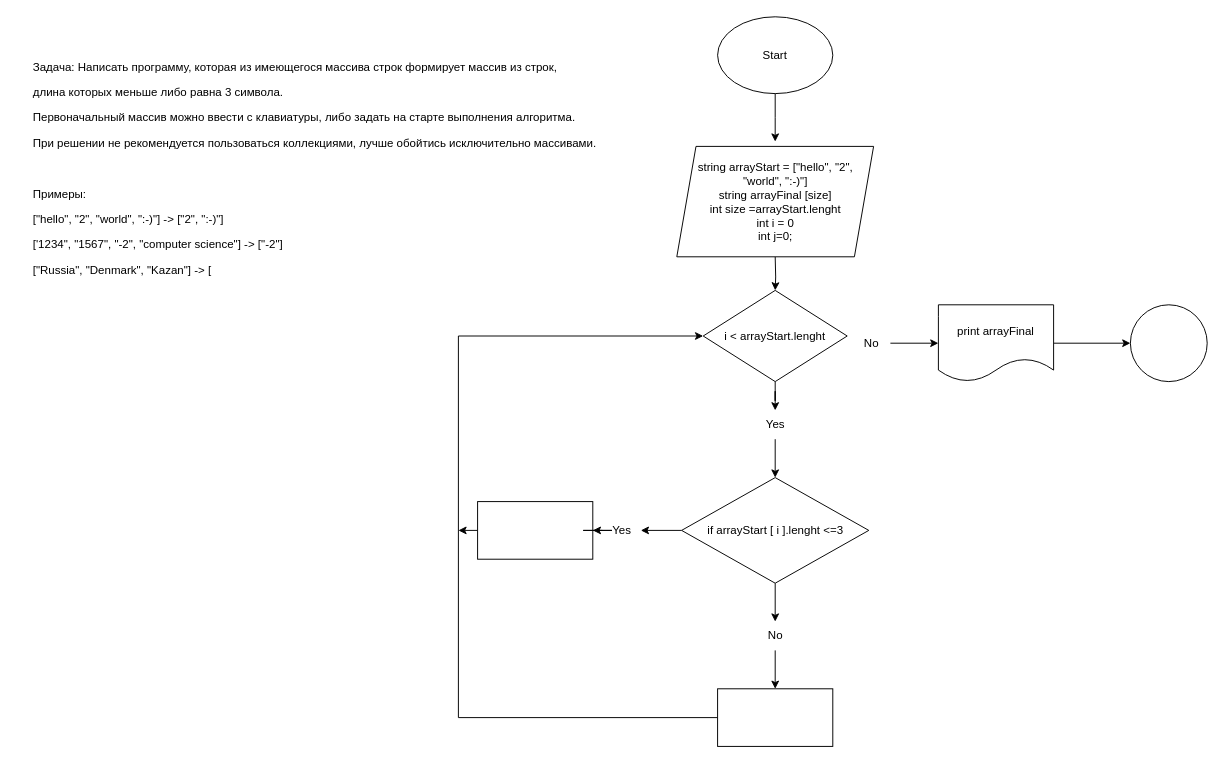
Some shapes in this 1224 by 763 pixel diagram are drawn without their labels. Here are the shapes that lost their labels. From the top down, the centre of each, then its label:
the point at 1168,343: End
the point at 535,530: arrayFinal [ j ]=arrayStart [ i ] j++
the point at 775,717: i++
